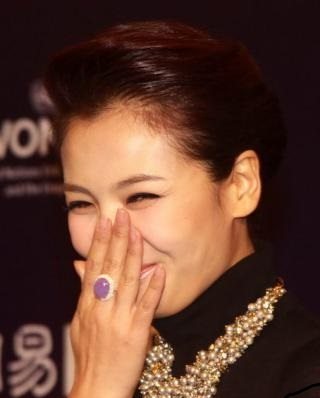face: (60, 109, 211, 319)
